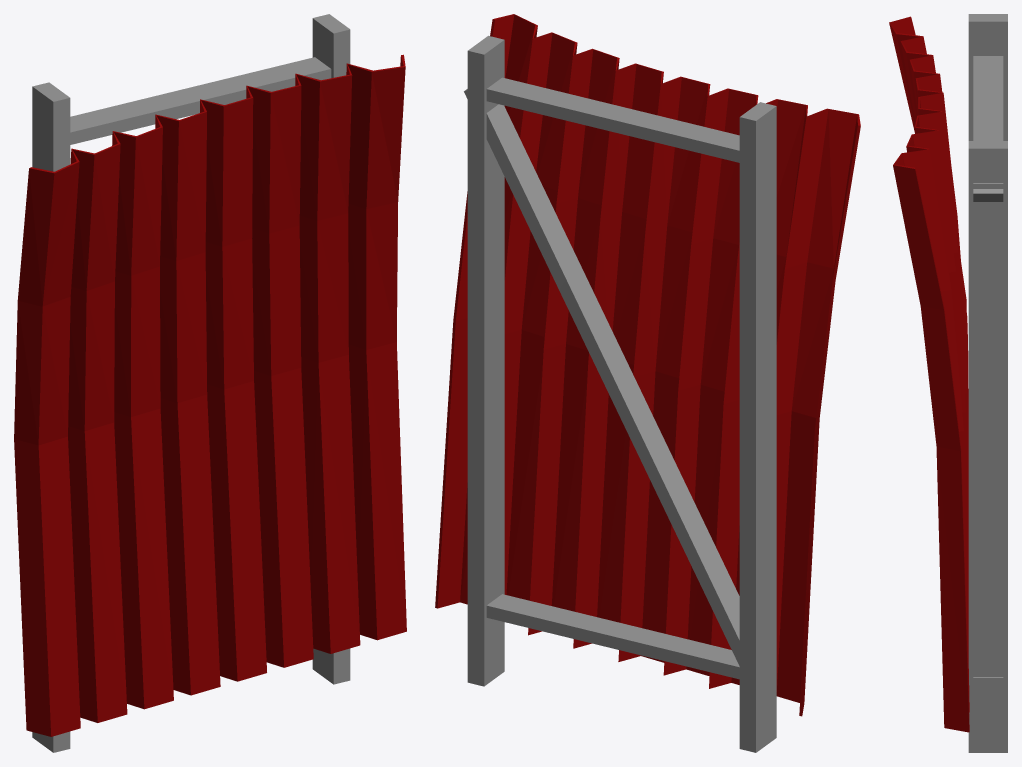
File: Cover2.FBX
3 renders of one model, left to right at view 1: azimuth 30°, elevation 25°; view 2: azimuth 150°, elevation 25°; view 3: azimuth 270°, elevation 25°, orthographic. The views are drawn at different scales.
Parts seen in each view (by area): view 1: Cover2; view 2: Cover2; view 3: Cover2.
Boxes of the visible parts, box(x1,y1,x2,y2) form: Cover2: box(14, 14, 406, 752); Cover2: box(435, 14, 860, 752); Cover2: box(889, 14, 1007, 752).
Bounding box in the file's own units: 172 × 263 × 46.98.
